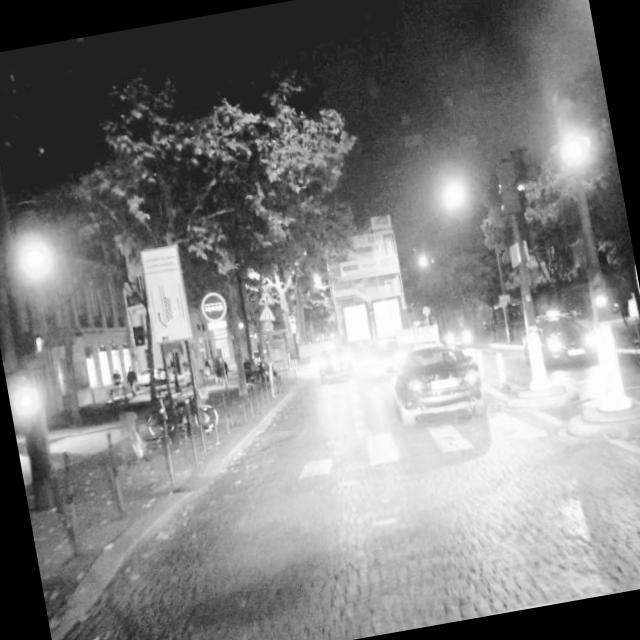Light: (552, 88, 586, 164), (17, 208, 49, 274), (14, 385, 38, 414), (594, 294, 608, 310)
Sign: (138, 245, 194, 344), (496, 162, 523, 215), (199, 290, 228, 323)
